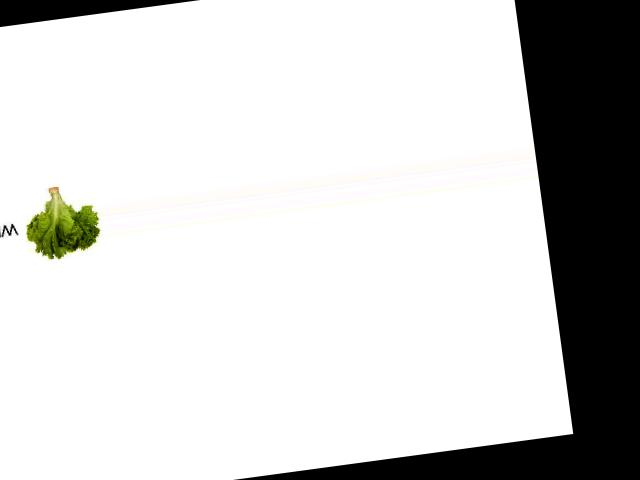lettuce: (14, 180, 105, 263)
